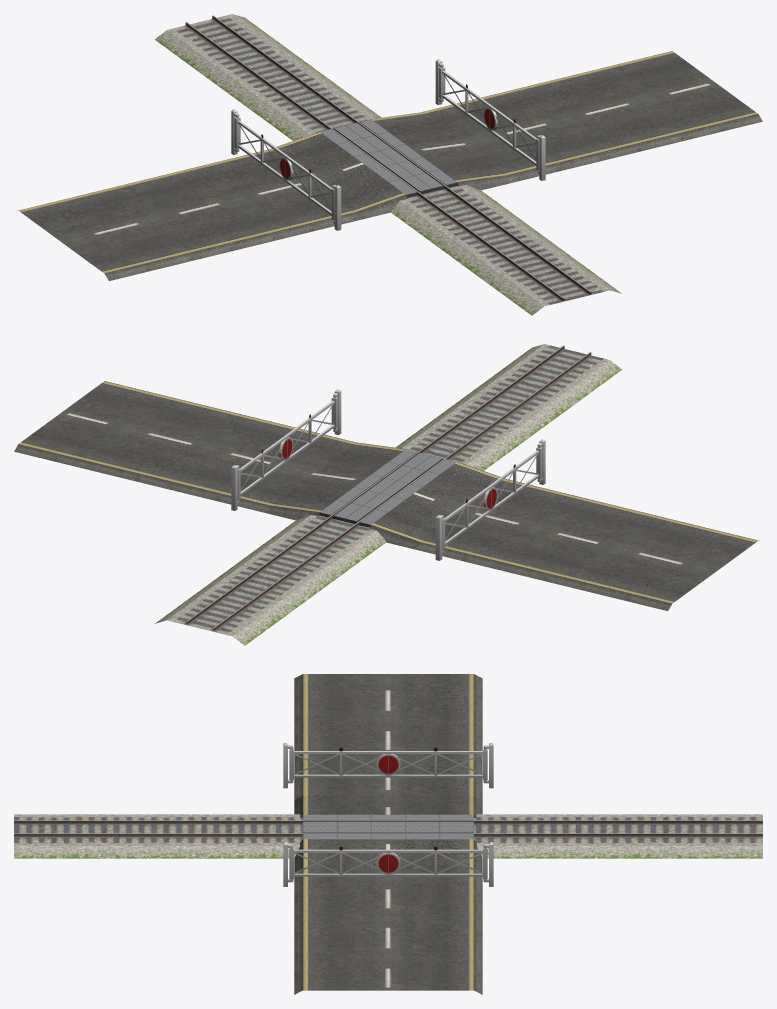
The model's file is Tr_Crossing1.fbx.
3 views of the same model, one above another, from view 1: azimuth 30°, elevation 25°; view 2: azimuth 150°, elevation 25°; view 3: azimuth 270°, elevation 25° (orthographic).
Parts seen in each view (by area): view 1: U3DMesh; view 2: U3DMesh; view 3: U3DMesh.
Part boxes in pixels (x1,y1,x2,y2): U3DMesh: (17,14,762,315); U3DMesh: (14,344,759,645); U3DMesh: (14,674,762,994).
Bounding box in the file's own units: 32 × 2.1 × 32.
